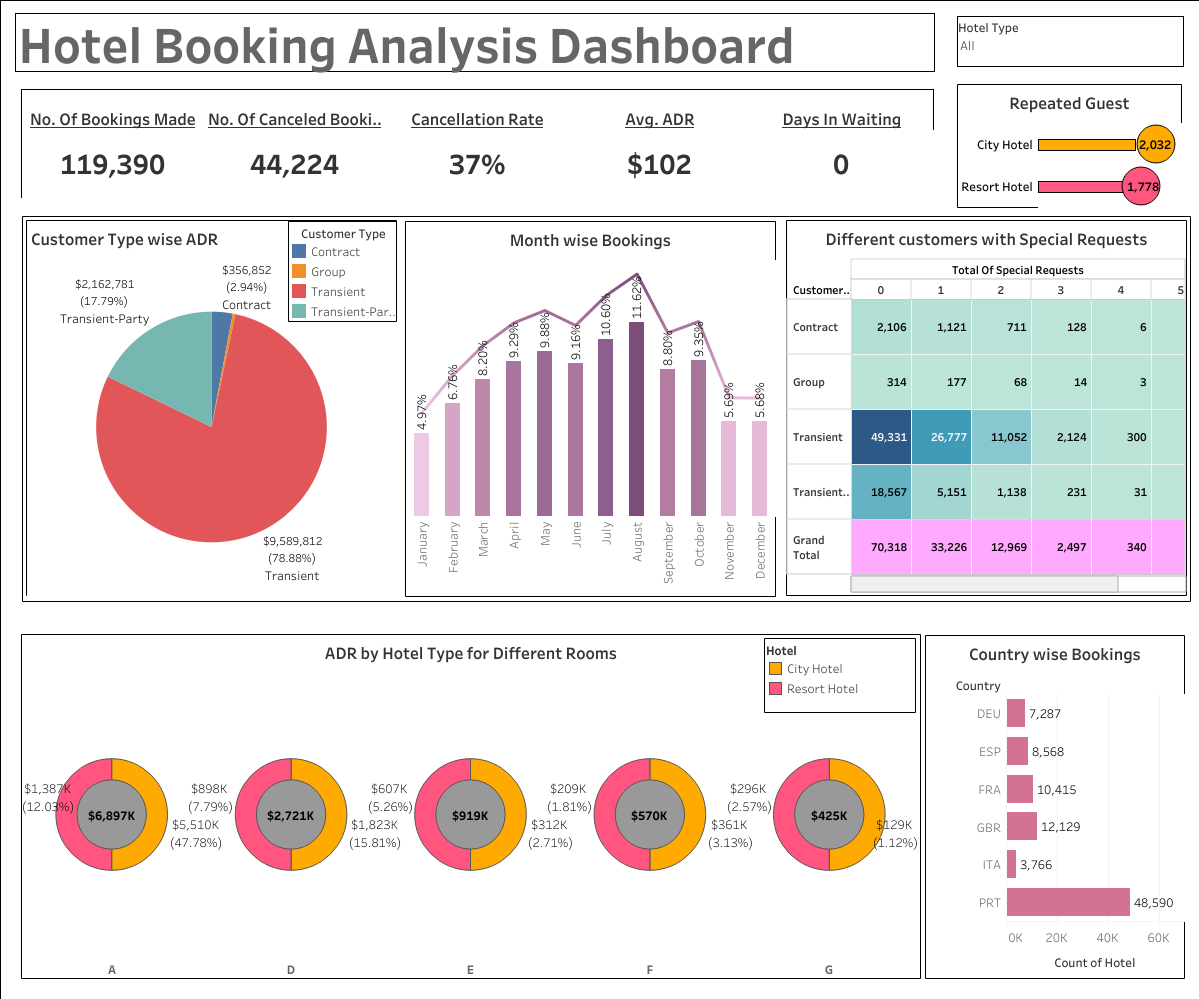

Layout of this report page (visuals, bound fields, positions):
{"tool":"tableau","page":{"name":"HBA Dashboard","canvas":[1200,1000],"ordinal":0},"visuals":[{"type":"filter","title":"Sheet 1","param":"[federated.0cbb0m50nyih831b68cil01jelqu].[none:hotel:nk]","box":[953,12,235,59]},{"type":"text","box":[15,13,920,59]},{"type":"worksheet","title":"Sheet 2","mark":"Automatic","rows":["hotel"],"cols":["is_repeated_guest","is_repeated_guest"],"box":[953,80,233,132]},{"type":"worksheet","title":"Sheet 1","mark":"Automatic","box":[17,85,921,117]},{"type":"worksheet","title":"Sheet 3","mark":"Pie","box":[22,216,379,384]},{"type":"worksheet","title":"Sheet 5","mark":"Square","rows":["customer_type"],"cols":["total_of_special_requests"],"box":[782,216,409,384]},{"type":"worksheet","title":"Sheet 4","mark":"Automatic","rows":["arrival_date_month","arrival_date_month"],"cols":["arrival_date_month"],"box":[401,217,379,384]},{"type":"legend","title":"Sheet 3","param":"[federated.0cbb0m50nyih831b68cil01jelqu].[none:customer_type:nk]","box":[288,221,109,101]},{"type":"worksheet","title":"Sheet 7","mark":"Pie","rows":["Calculation_188869727167639557","Calculation_188869727167639557"],"cols":["assigned_room_type"],"box":[17,630,908,353]},{"type":"worksheet","title":"Sheet 6","mark":"Bar","rows":["country"],"cols":["hotel"],"box":[921,631,268,352]},{"type":"legend","title":"Sheet 7","param":"[federated.0cbb0m50nyih831b68cil01jelqu].[none:hotel:nk]","box":[760,634,160,83]}]}

Visuals, with their boxes in screenshot pixels (x1, y1, x2, y2), scaled from the page's 1200x1000 canvas onto the 1199x999 screenshot:
"Sheet 1" filter: 952, 12, 1187, 71
text: 15, 13, 934, 72
"Sheet 2" worksheet: 952, 80, 1185, 212
"Sheet 1" worksheet: 17, 85, 937, 202
"Sheet 3" worksheet (Pie marks): 22, 216, 401, 599
"Sheet 5" worksheet (Square marks): 781, 216, 1190, 599
"Sheet 4" worksheet: 401, 217, 779, 600
"Sheet 3" legend: 288, 221, 397, 322
"Sheet 7" worksheet (Pie marks): 17, 629, 924, 982
"Sheet 6" worksheet (Bar marks): 920, 630, 1188, 982
"Sheet 7" legend: 759, 633, 919, 716
